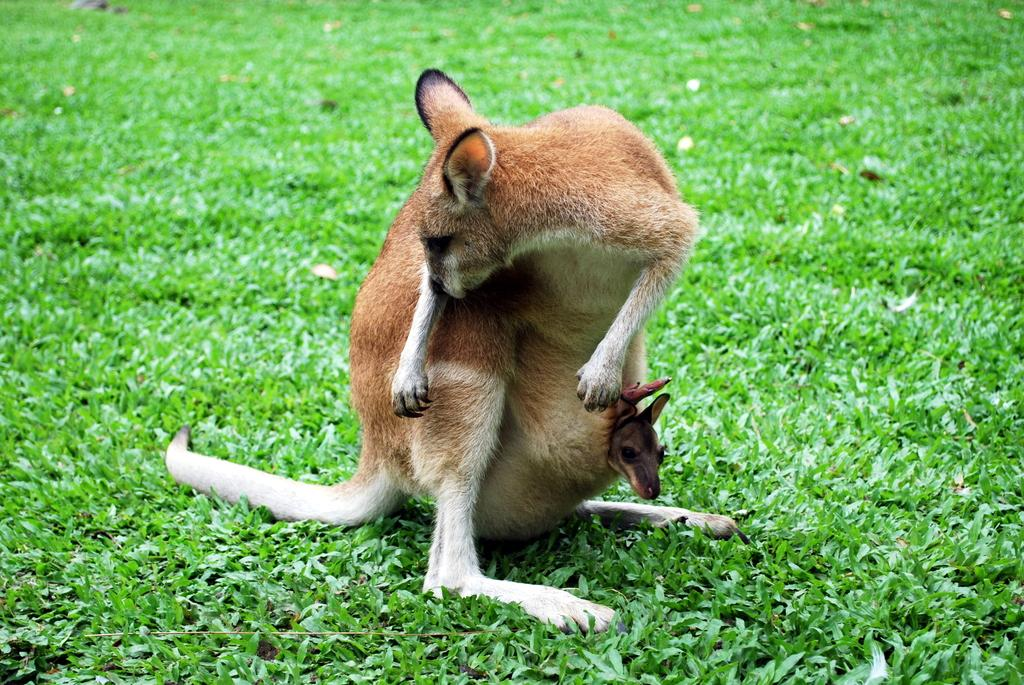kangaroo: (162, 66, 735, 634)
